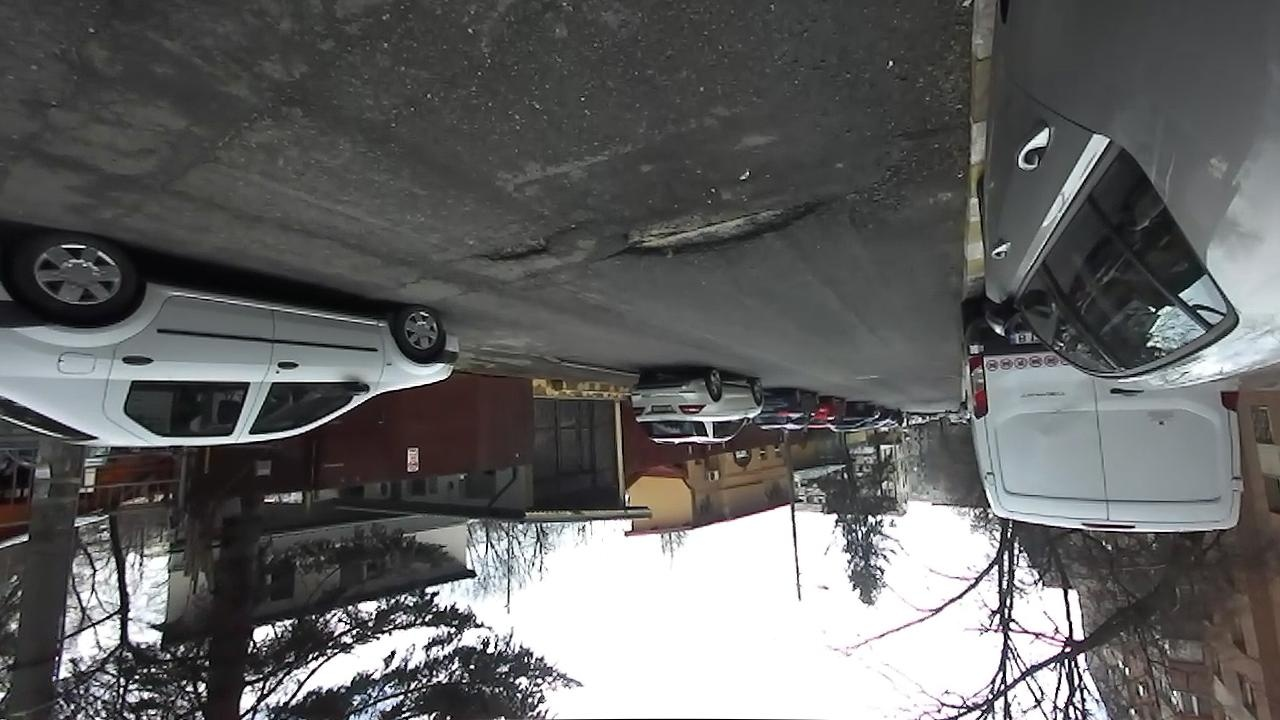pothole: (596, 192, 835, 263), (472, 225, 573, 266)
